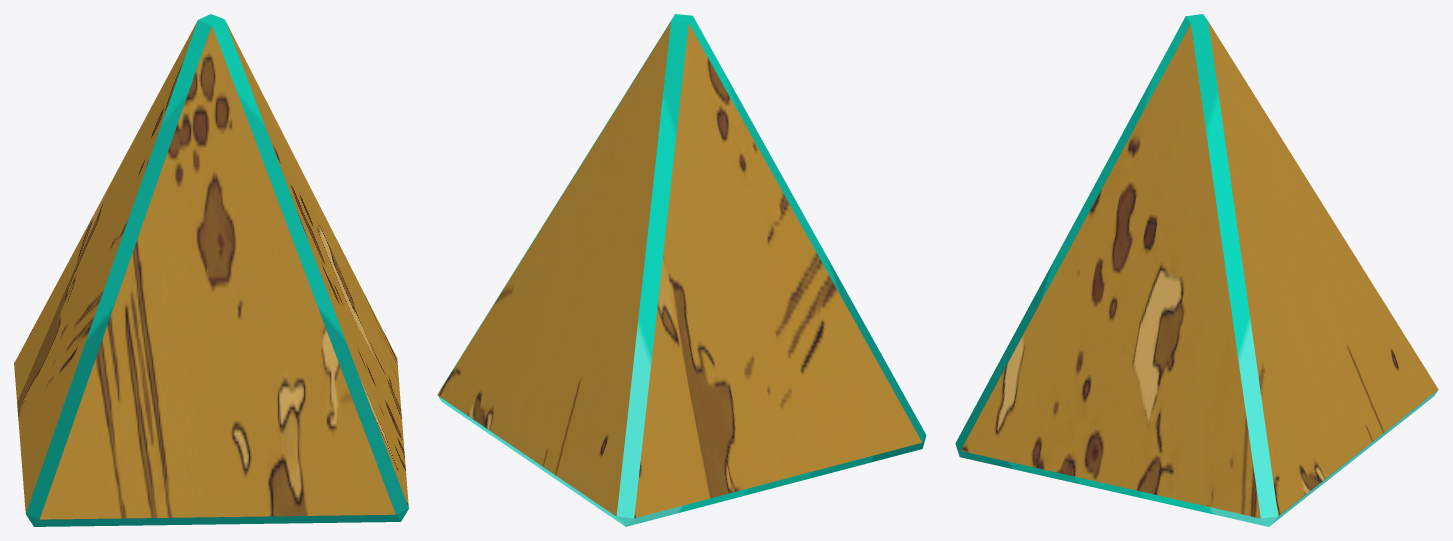
The model's file is PYRAMID_OPAQUE.glb.
3 renders of one model, left to right at view 1: azimuth 30°, elevation 25°; view 2: azimuth 150°, elevation 25°; view 3: azimuth 270°, elevation 25°, orthographic. The views are drawn at different scales.
Parts seen in each view (by area): view 1: Cone; view 2: Cone; view 3: Cone.
Boxes of the visible parts, x1,y1,x2,y2 form: Cone: [14, 14, 408, 526]; Cone: [437, 14, 926, 526]; Cone: [955, 14, 1438, 526].
Bounding box in the file's own units: 2.13 × 1.99 × 2.13.
2 materials, 2 textured.
